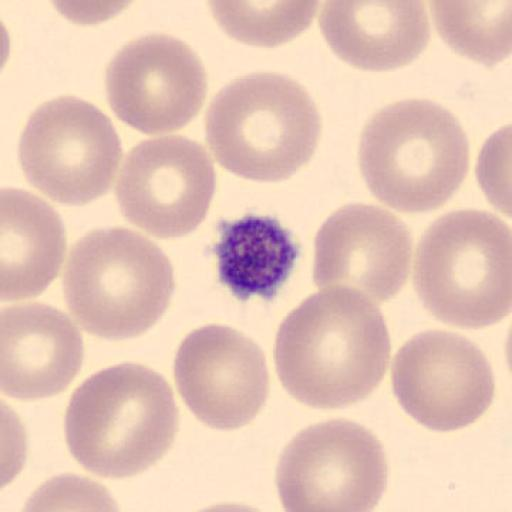Platelet: (210, 208, 303, 304)
RBC: (272, 283, 392, 414), (61, 358, 181, 481), (202, 67, 324, 185), (61, 224, 177, 343), (356, 95, 470, 215), (15, 92, 123, 208), (411, 206, 511, 331), (112, 133, 218, 241), (273, 414, 389, 512), (390, 328, 496, 434), (103, 30, 208, 136), (171, 322, 270, 432), (310, 200, 412, 306), (2, 299, 86, 402), (317, 1, 431, 74), (2, 185, 68, 302), (202, 0, 322, 49), (426, 0, 512, 67), (17, 469, 124, 512), (473, 119, 512, 221), (0, 399, 30, 492), (45, 0, 148, 27), (171, 500, 283, 512), (0, 11, 13, 82)
